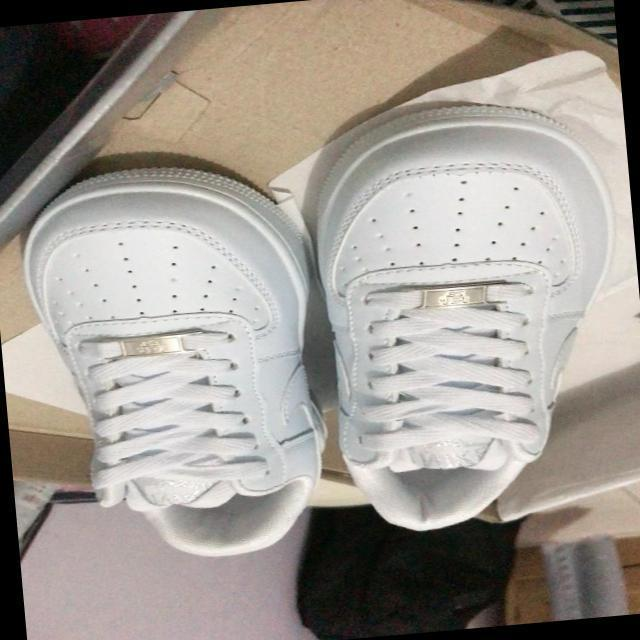nike fake air force: (298, 86, 640, 555), (12, 147, 342, 582)
